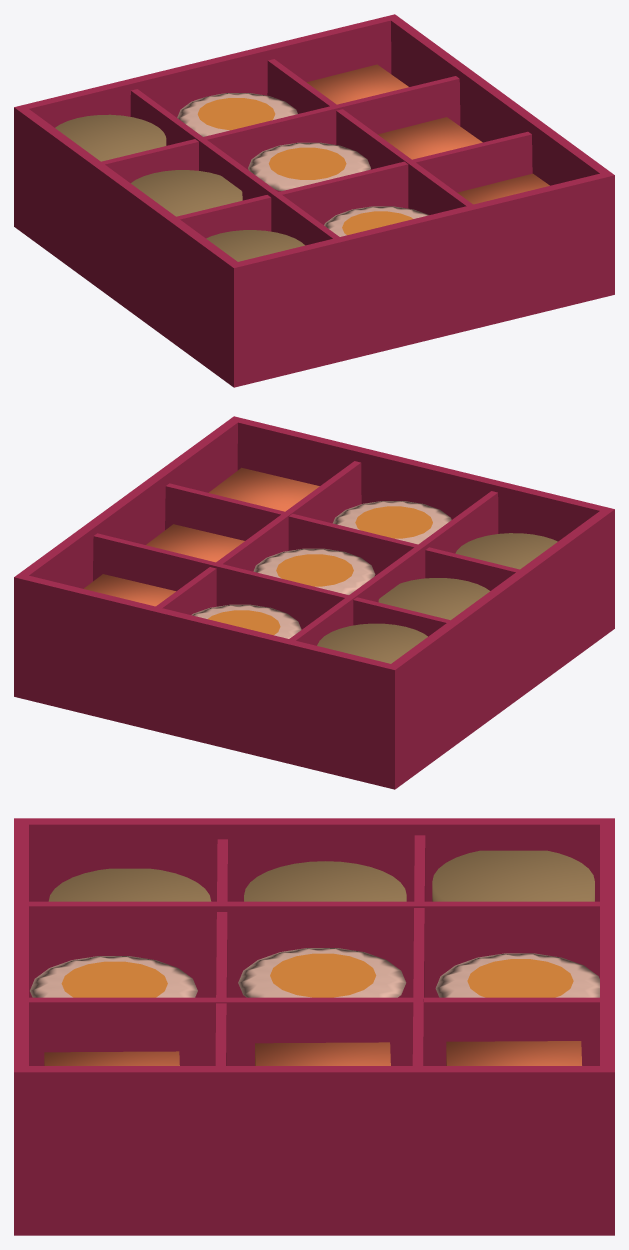
File: kue kopiang.fbx
3 views of the same model, one above another, from view 1: azimuth 30°, elevation 25°; view 2: azimuth 150°, elevation 25°; view 3: azimuth 270°, elevation 25° (orthographic). The views are drawn at different scales.
Visible parts, largest first — view 1: Cube, Cube.003, Cube.004, Cube.001, Cube.002, Cylinder.002, Cylinder.003, Cube.007, Cube.005, Cylinder.018, Cylinder.019, Cylinder.001 (+5 smaller); view 2: Cube, Cube.004, Cube.003, Cube.001, Cube.002, Cylinder.003, Cylinder.002, Cube.006, Cylinder.001, Cube.007, Cylinder.019, Cylinder.021 (+5 smaller); view 3: Cube, Cube.002, Cube.001, Cylinder.002, Cylinder.003, Cylinder.001, Cylinder.019, Cylinder.018, Cylinder.017, Cube.005, Cylinder.021, Cube.007 (+5 smaller).
Boxes of the visible parts, x1,y1,x2,y2 form: Cube: (14, 14, 614, 387); Cube.003: (176, 131, 532, 238); Cube.004: (101, 76, 460, 191); Cube.001: (267, 59, 472, 214); Cube.002: (130, 89, 339, 245); Cylinder.002: (55, 114, 166, 161); Cylinder.003: (131, 170, 242, 216); Cube.007: (378, 117, 482, 159); Cube.005: (307, 64, 408, 104); Cylinder.018: (248, 142, 370, 191); Cylinder.019: (268, 147, 346, 179); Cylinder.001: (206, 230, 304, 261); Cube: (14, 416, 614, 789); Cube.004: (93, 533, 450, 636); Cube.003: (165, 483, 519, 590); Cube.001: (156, 461, 361, 614); Cube.002: (289, 491, 498, 645); Cylinder.003: (378, 578, 489, 620); Cylinder.002: (317, 623, 427, 663); Cube.006: (208, 467, 319, 511); Cylinder.001: (455, 533, 557, 569); Cube.007: (146, 524, 244, 562); Cylinder.019: (276, 554, 353, 586); Cylinder.021: (355, 506, 432, 538); Cube: (14, 818, 614, 1235); Cube.002: (29, 901, 599, 997); Cube.001: (29, 997, 599, 1065); Cylinder.002: (432, 850, 594, 901); Cylinder.003: (244, 861, 406, 901); Cylinder.001: (48, 868, 211, 901); Cylinder.019: (270, 953, 376, 997); Cylinder.018: (238, 948, 406, 997); Cylinder.017: (467, 959, 573, 997); Cube.005: (446, 1041, 581, 1065); Cylinder.021: (61, 961, 167, 997); Cube.007: (255, 1042, 390, 1065).
Size of the model in its own units: 331 by 99.2 by 331.
